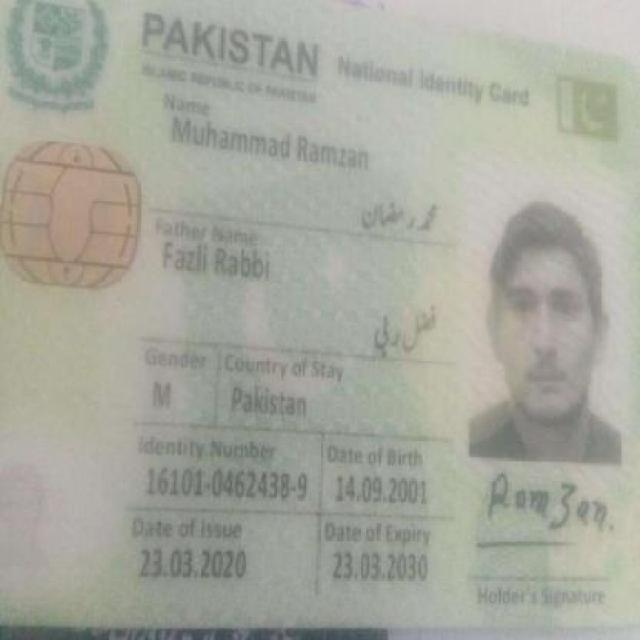Front: (7, 6, 638, 631)
